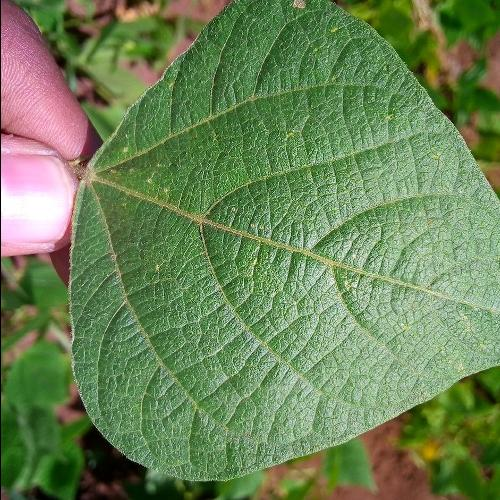mozaik: (105, 126, 177, 266)
sehat: (248, 102, 409, 388)
